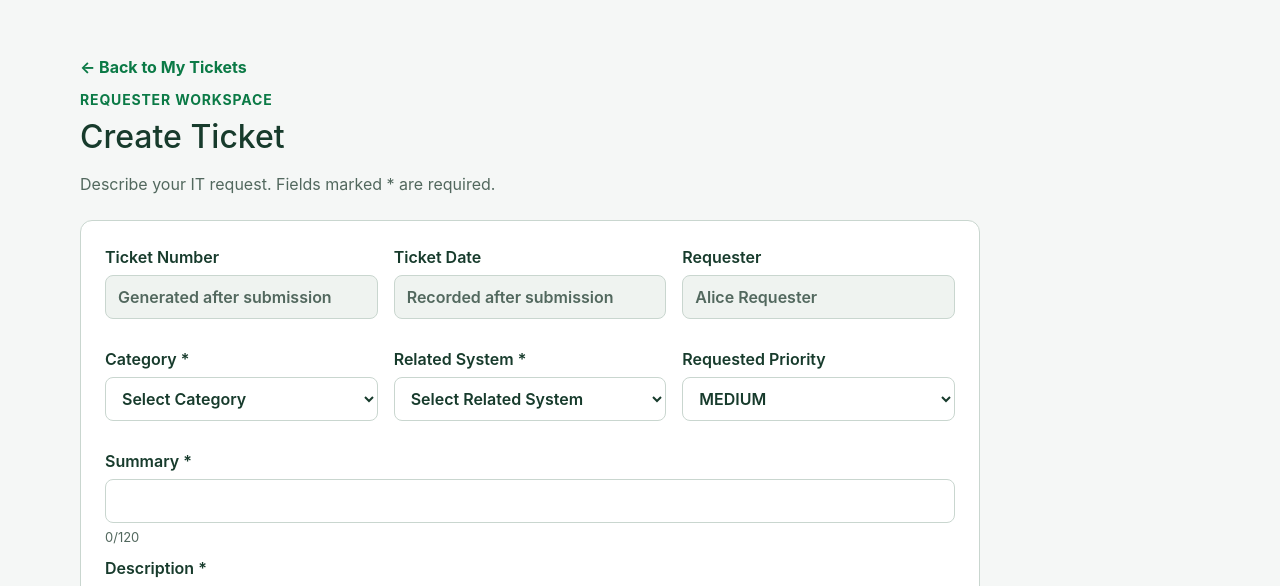
Test: Create Ticket screen › creates a Ticket and shows the authoritative Ticket Number
The image size is (1280, 586).
Expected: the heading "Create Ticket" is shown, [80,117,285,156]
Step 1. Select "Hardware" in the dropdown labelled "Category *" → (241, 399), box [105,377,378,421]
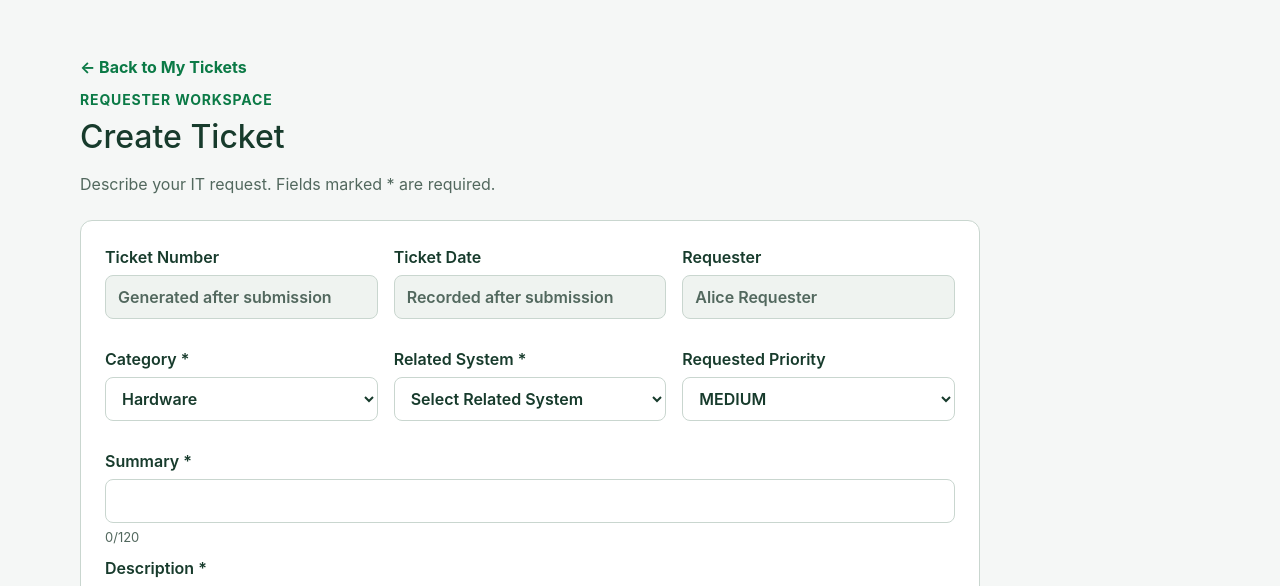
Step 2. Select "Corporate Laptop" in the dropdown labelled "Related System *" → (530, 399), box [394,377,666,421]
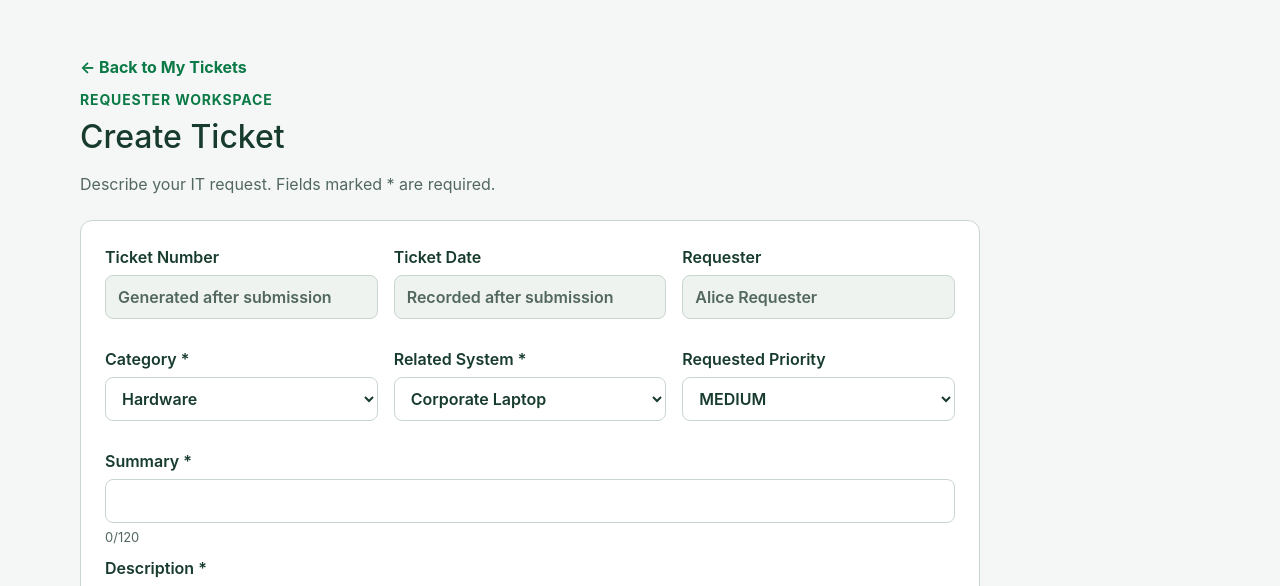
Step 3. Type "Laptop battery issue" into the field labelled "Summary * 0/120" → (530, 501), box [105,479,955,523]
(page scrolled)
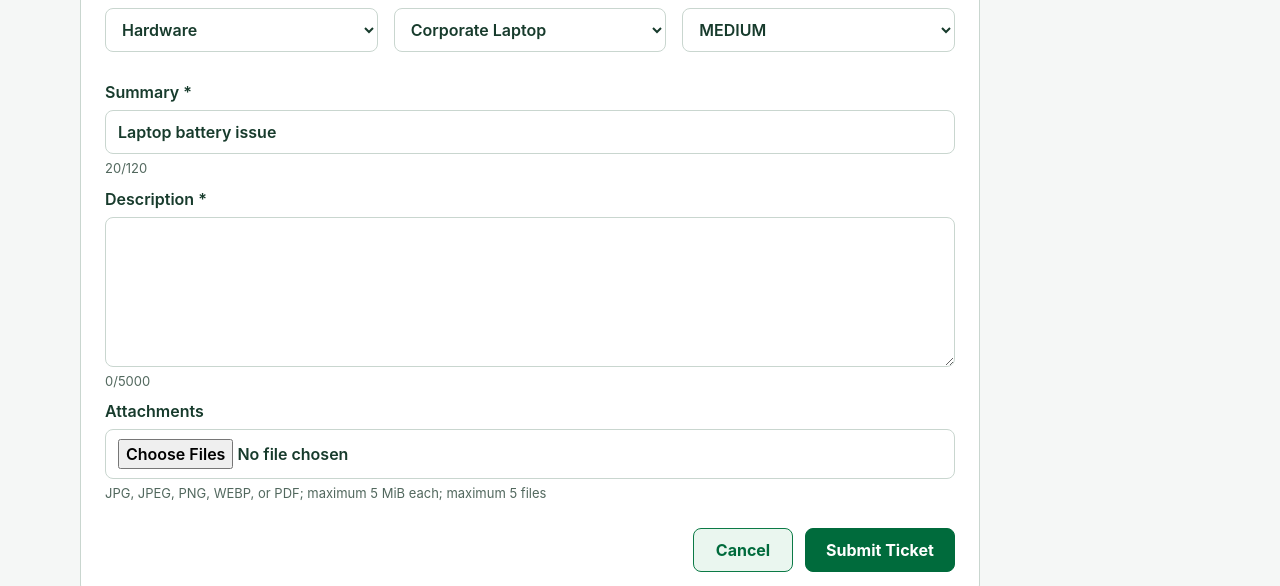
Step 4. Type "Battery drains very quickly during normal use." into the text box labelled "Description * 0/5000" → (530, 292), box [105,217,955,367]
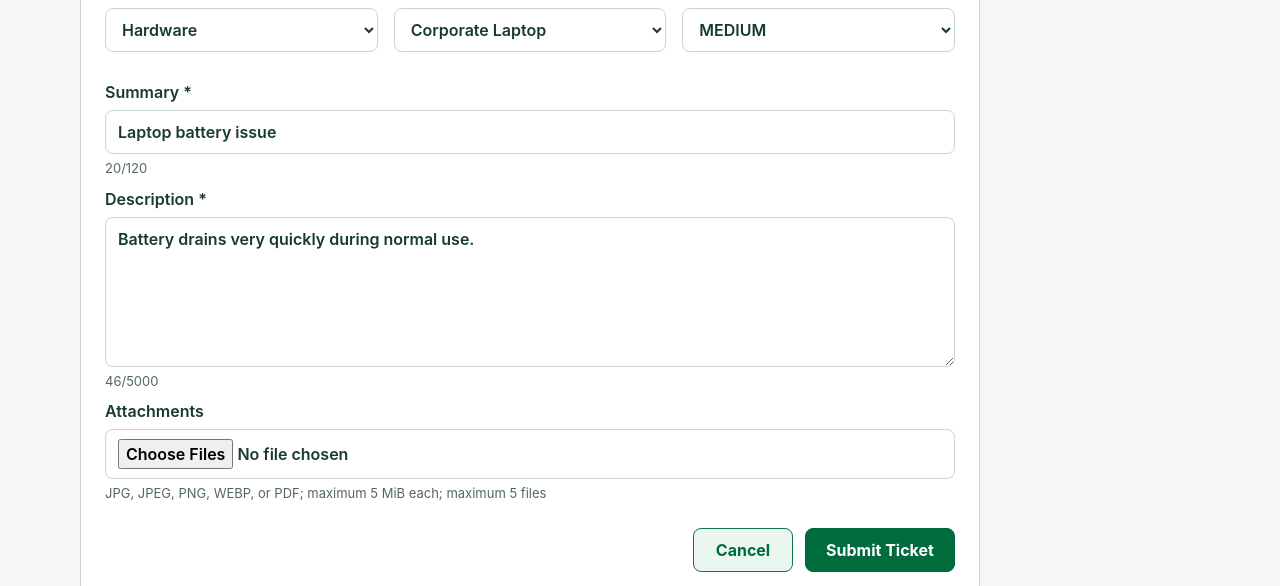
Step 5. Click the button "Submit Ticket" → click(880, 550), box [805,528,955,572]
(page scrolled)
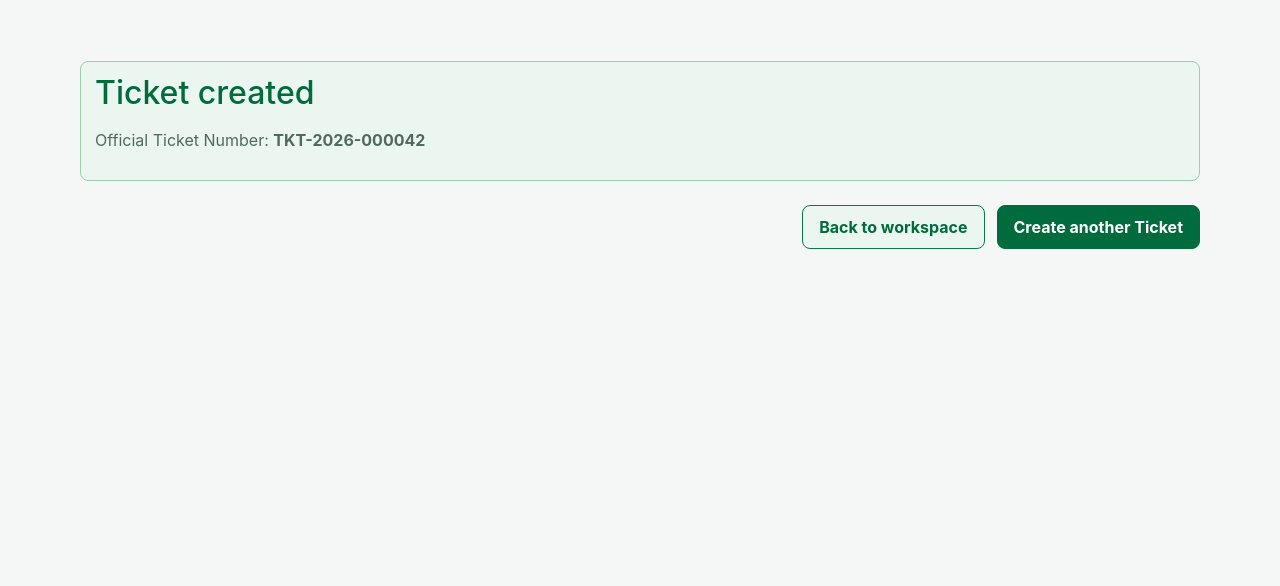
Expected: the heading "Ticket created" is shown, [95,73,314,112]
Expected: the text "TKT-2026-000042" is shown, [273,130,425,150]
